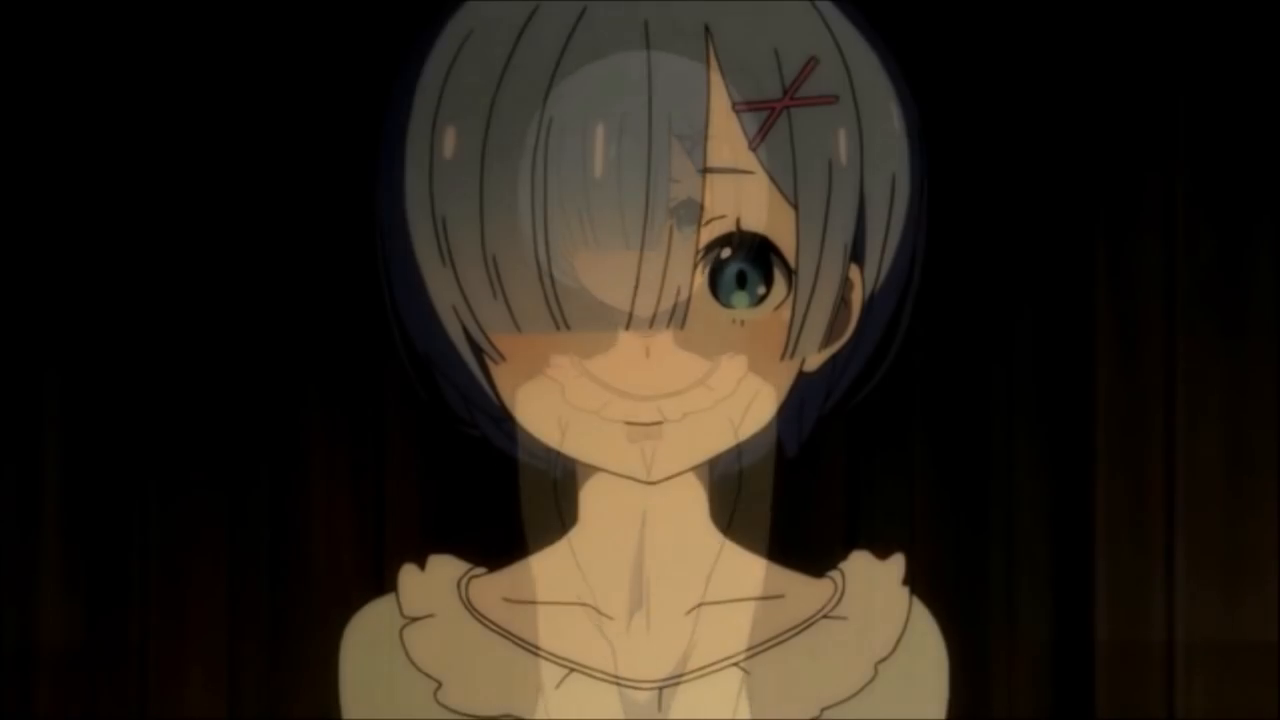REM: (381, 7, 914, 476)
